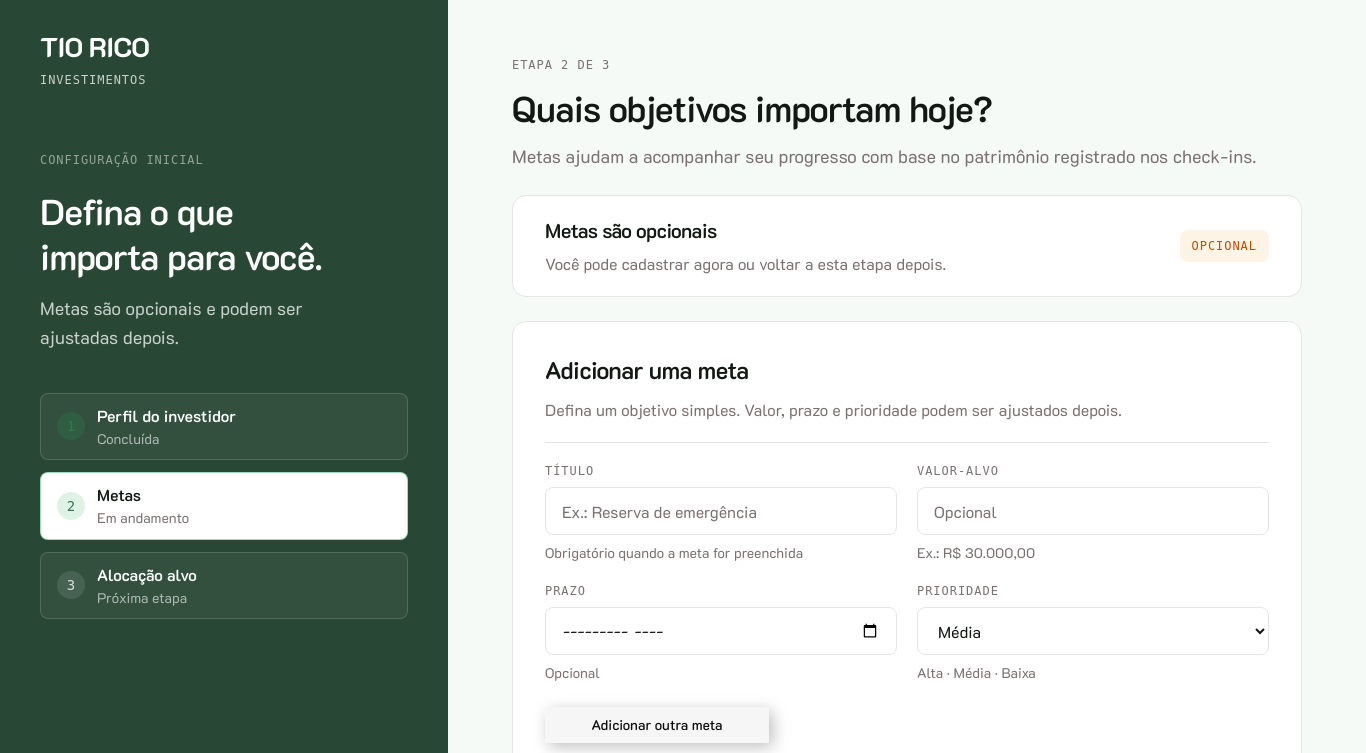
Scenario: OnboardingSecondStep › o erro do título some assim que a pessoa edita (#50)
In the field labelled "Valor-alvo": (1093, 511) [917,487,1269,535], type "30000"
(page scrolled)
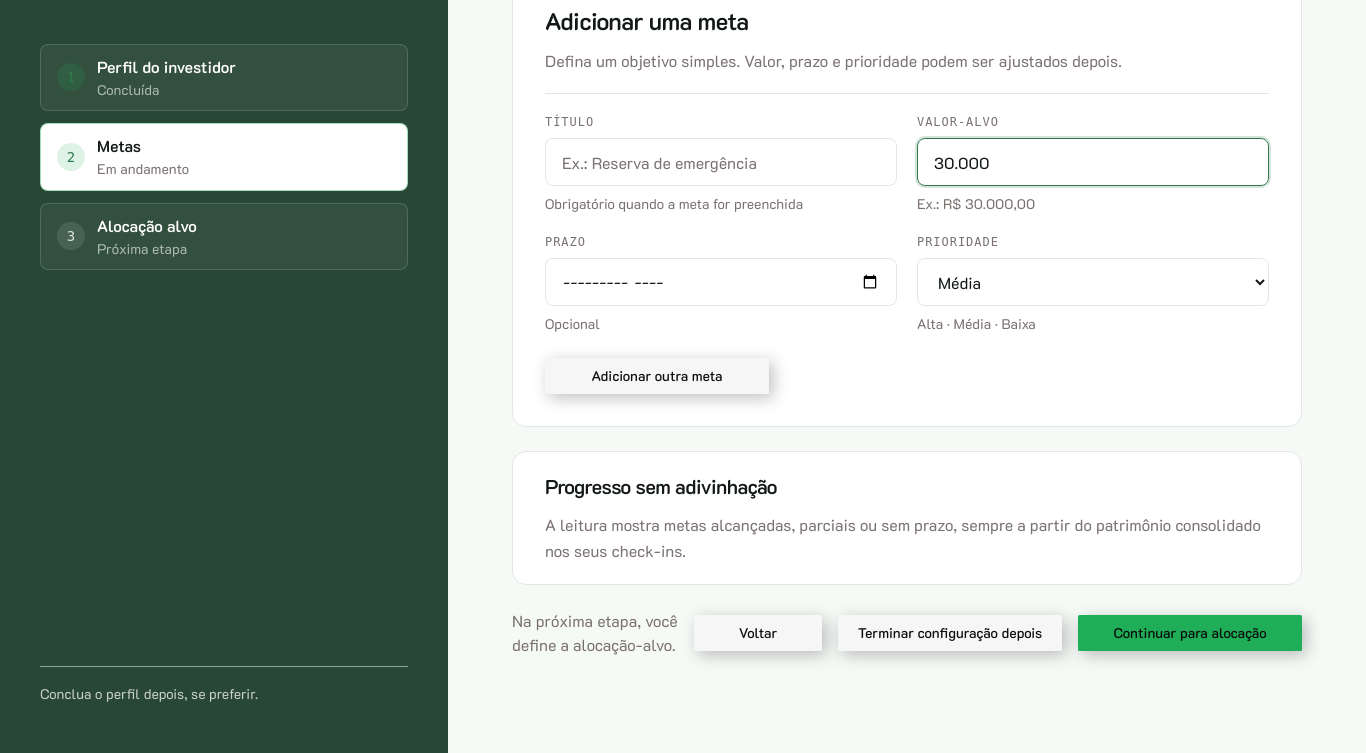
Click the button "Continuar para alocação": click(1190, 633) [1078,615,1302,651]
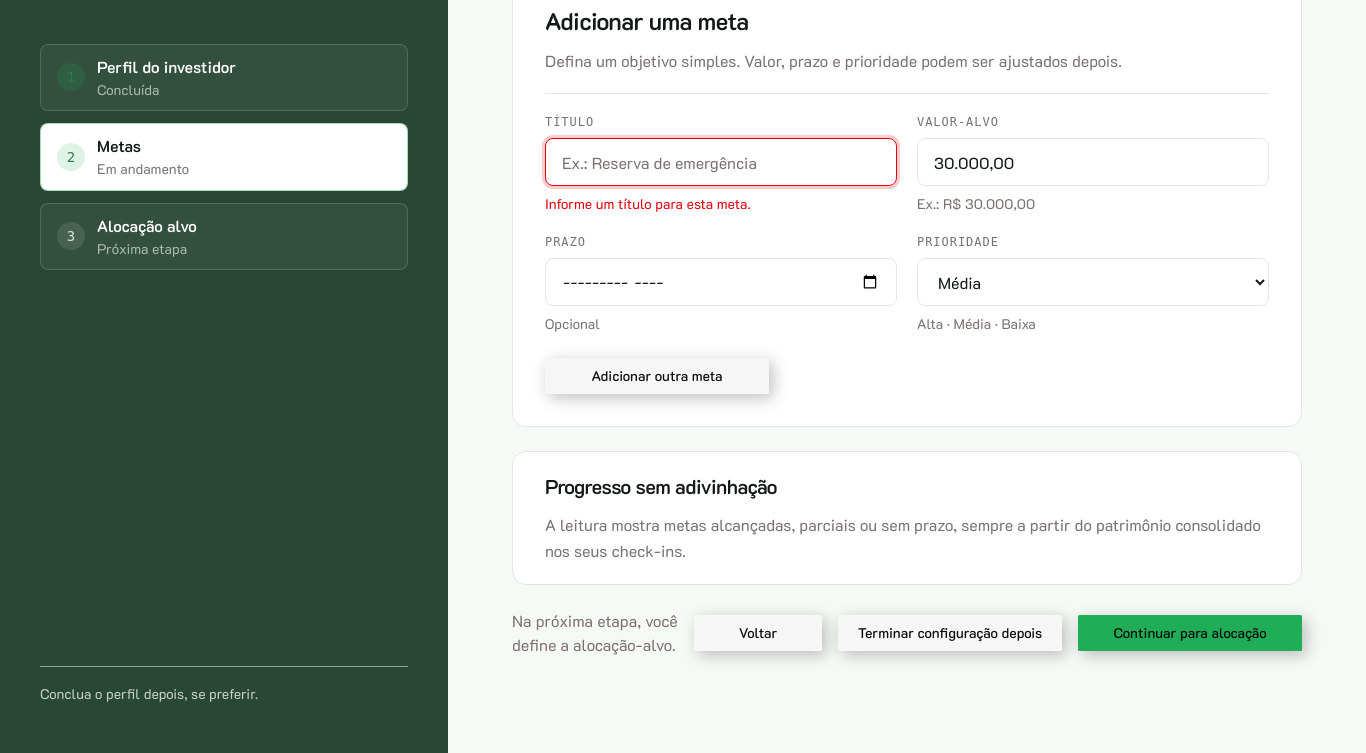
In the field labelled "Título": (721, 162) [545,138,897,186], type "Reserva"
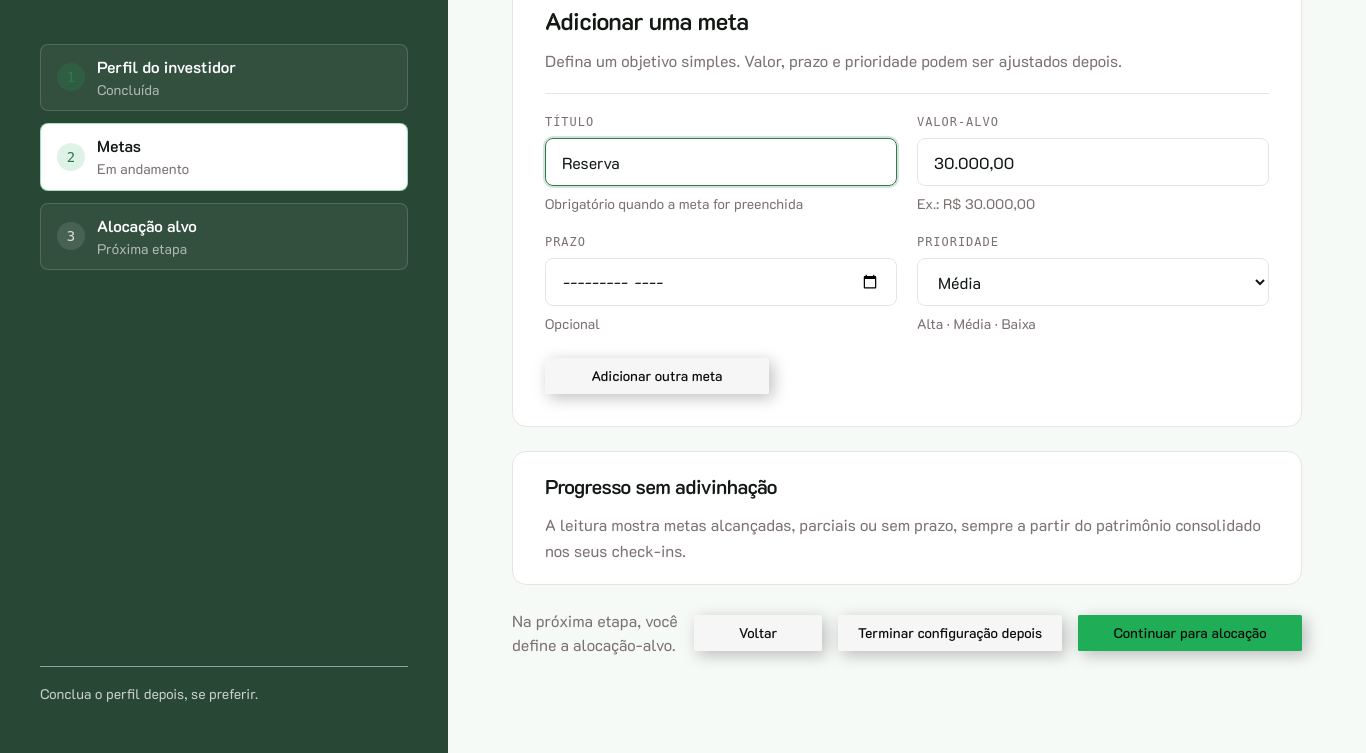
Expected: the text "Informe um título para esta meta." is gone
